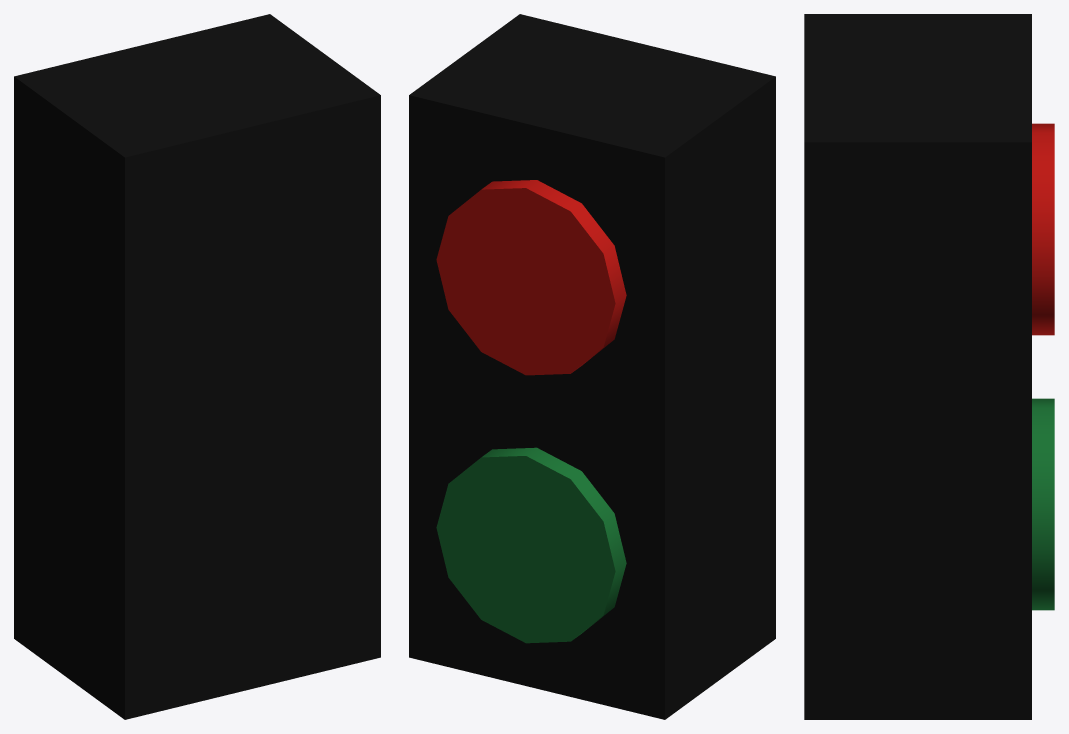
Rendered from industrial.depot.dock_signal.glb.
3 views of the same model, side by side, from view 1: azimuth 30°, elevation 25°; view 2: azimuth 150°, elevation 25°; view 3: azimuth 270°, elevation 25° (orthographic). The views are drawn at different scales.
Visible parts, largest first — view 1: main__plastic_black; view 2: main__plastic_black, main__plastic_red, main__plastic_green; view 3: main__plastic_black, main__plastic_green, main__plastic_red.
Boxes of the visible parts, box(x1,y1,x2,y2) form: main__plastic_black: box(14, 14, 380, 719); main__plastic_black: box(409, 14, 775, 719); main__plastic_red: box(436, 180, 626, 375); main__plastic_green: box(436, 447, 626, 643); main__plastic_black: box(804, 14, 1031, 719); main__plastic_green: box(1032, 398, 1054, 610); main__plastic_red: box(1032, 123, 1054, 335).
Size of the model in its own units: 0.2 by 0.42 by 0.165.
